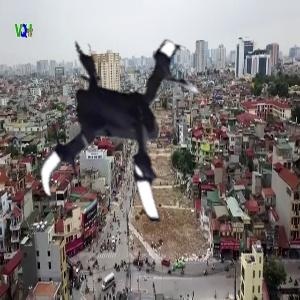drone: (11, 8, 235, 232)
